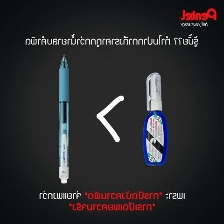correction_fluid: (140, 70, 170, 168)
